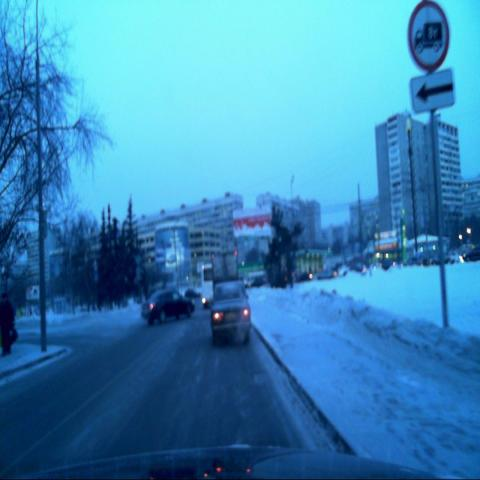3_4: (407, 0, 451, 73)
8_3_2: (409, 70, 457, 114)
